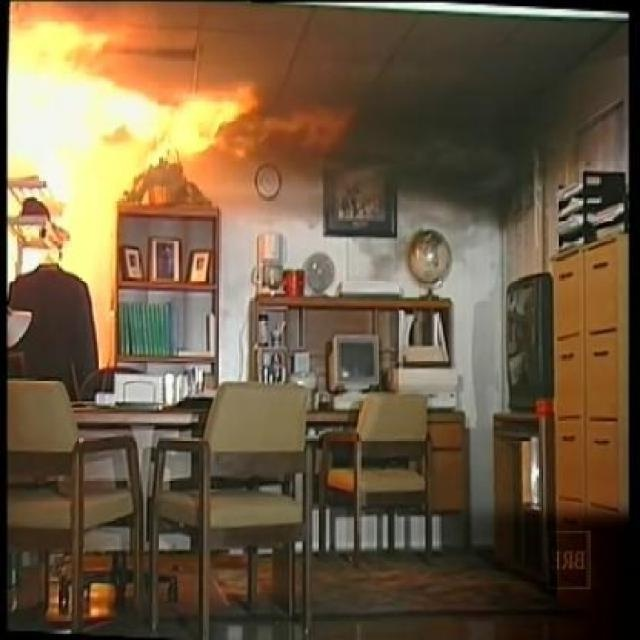fire: (8, 4, 280, 234)
